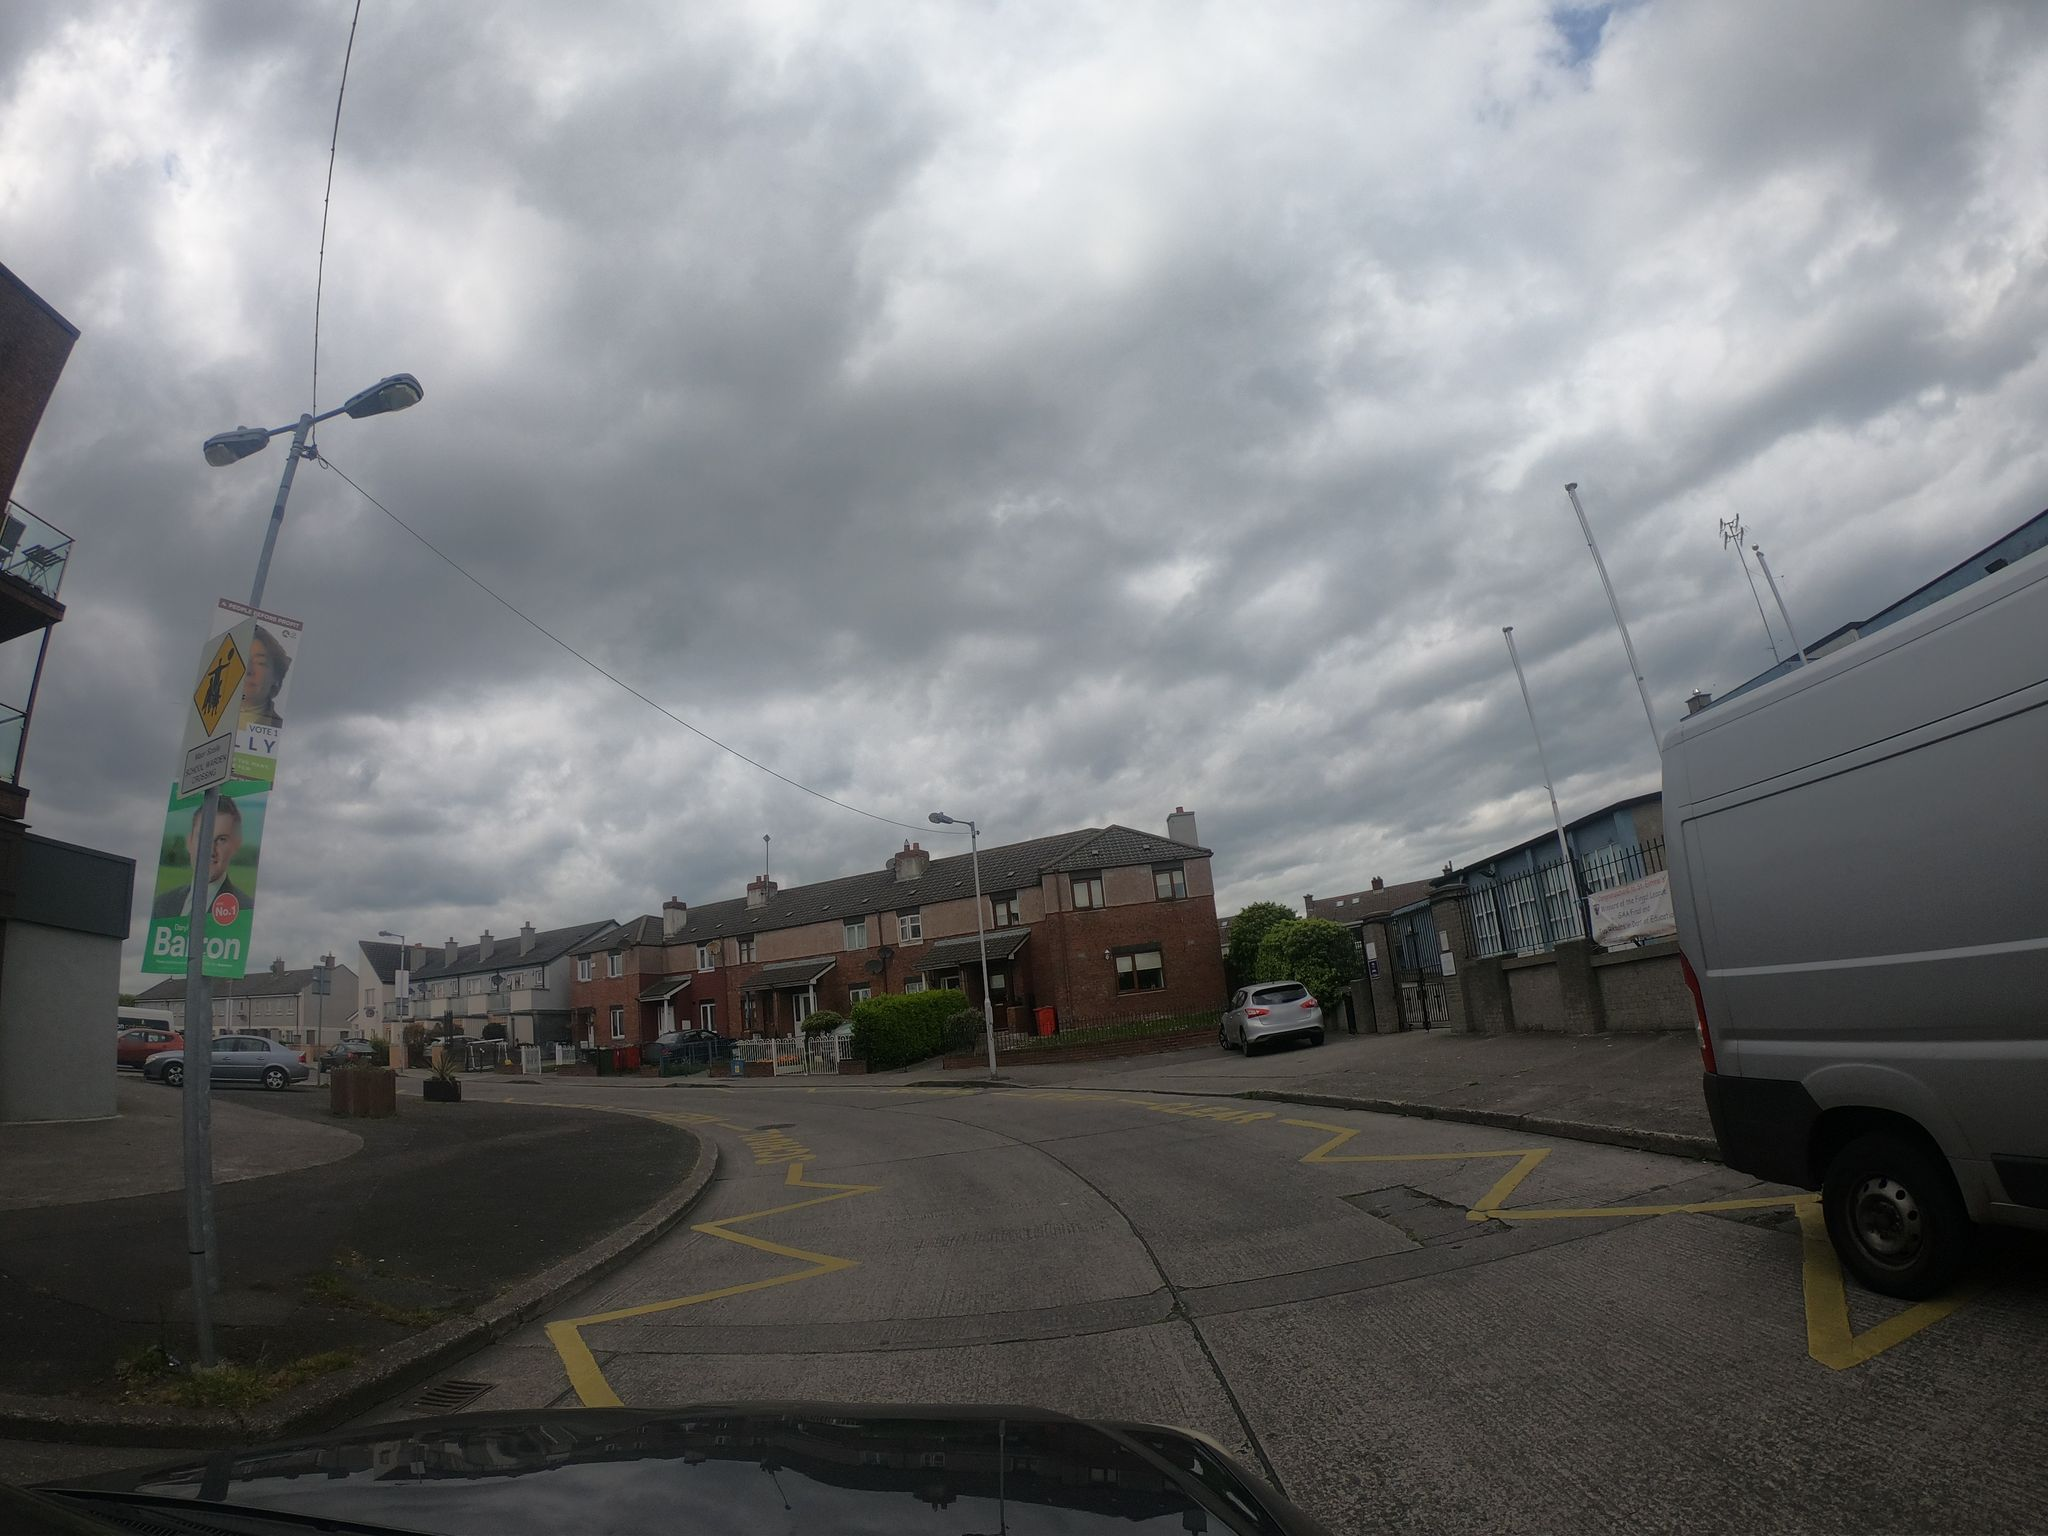vinyl banner: (1571, 862, 1692, 960)
